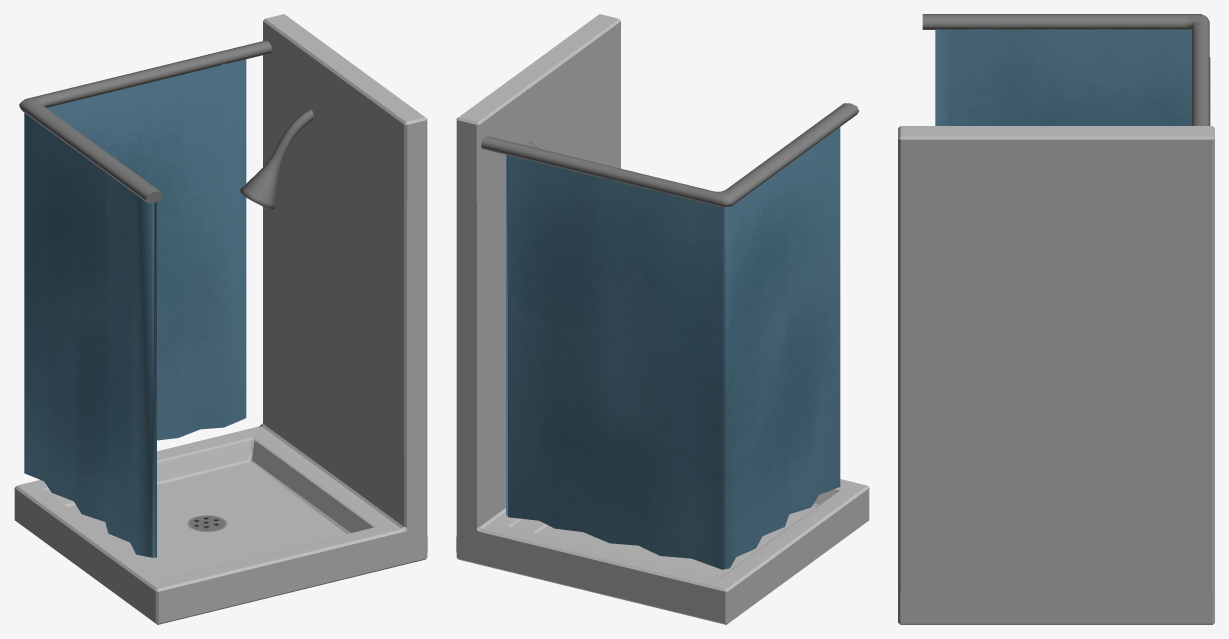
Rendered from shower.fbx.
3 renders of one model, left to right at view 1: azimuth 30°, elevation 25°; view 2: azimuth 150°, elevation 25°; view 3: azimuth 270°, elevation 25°, orthographic. The views are drawn at different scales.
Parts seen in each view (by area): view 1: polySurface581; view 2: polySurface581; view 3: polySurface581.
Part boxes in pixels (x1=…): polySurface581: x1=14, y1=14, x2=427, y2=624; polySurface581: x1=456, y1=14, x2=869, y2=624; polySurface581: x1=898, y1=14, x2=1214, y2=624.
Size of the model in its own units: 1.32 by 2.05 by 1.2.
1 material, 1 textured.
